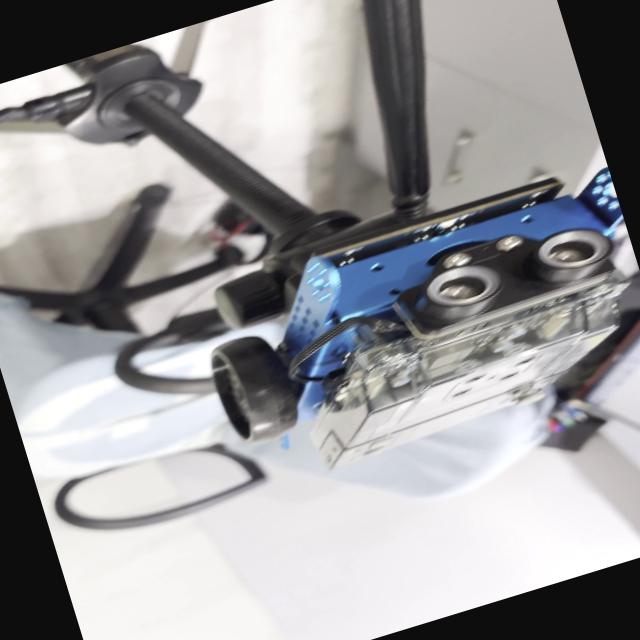mbot-detection: (170, 151, 640, 504)
